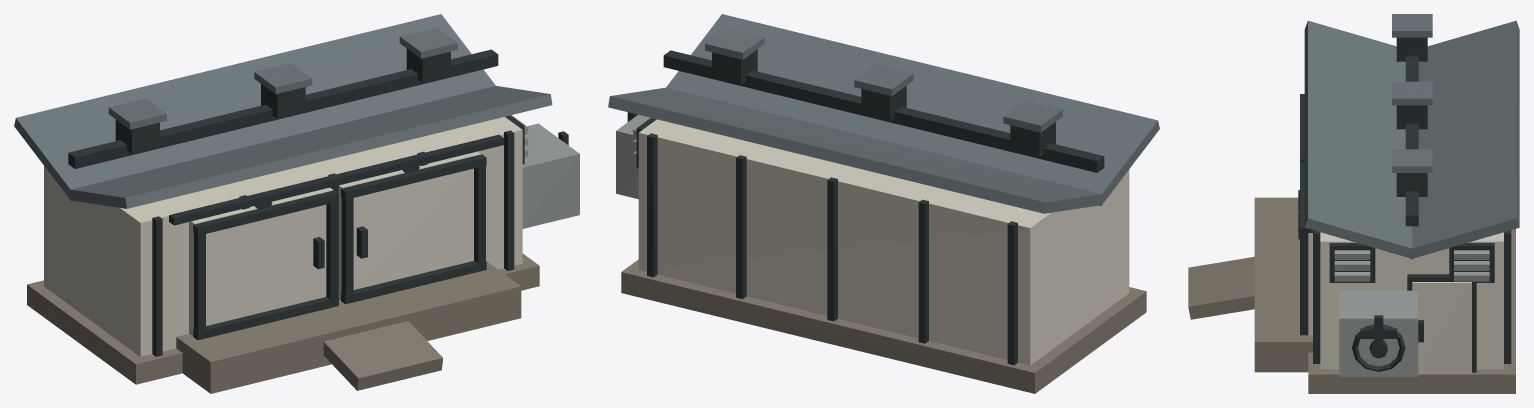
File: refrigerated-warehouse.source.glb
3 renders of one model, left to right at view 1: azimuth 30°, elevation 25°; view 2: azimuth 150°, elevation 25°; view 3: azimuth 270°, elevation 25°, orthographic. The views are drawn at different scales.
Parts seen in each view (by area): view 1: refrigerated-warehouse-insulated-warehouse-shell-mesh, refrigerated-warehouse-shallow-roof--0.43-mesh, refrigerated-warehouse-front-loading-dock-mesh, refrigerated-warehouse-shallow-roof-0.43-mesh, refrigerated-warehouse-left-door-panel-mesh, refrigerated-warehouse-right-door-panel-mesh, refrigerated-warehouse-roof-ridge-mesh, refrigerated-warehouse-low-stone-foundation-mesh, refrigerated-warehouse-short-dock-ramp-mesh, refrigerated-warehouse-condenser-casing-mesh, refrigerated-warehouse-loading-door-track-mesh, refrigerated-warehouse-left-top-seal-mesh (+15 smaller); view 2: refrigerated-warehouse-insulated-warehouse-shell-mesh, refrigerated-warehouse-shallow-roof-0.43-mesh, refrigerated-warehouse-shallow-roof--0.43-mesh, refrigerated-warehouse-low-stone-foundation-mesh, refrigerated-warehouse-roof-ridge-mesh, refrigerated-warehouse-condenser-casing-mesh, refrigerated-warehouse-rear-frame--1.62-mesh, refrigerated-warehouse-rear-frame-1.62-mesh, refrigerated-warehouse-rear-frame--0.82-mesh, refrigerated-warehouse-rear-frame-0.82-mesh, refrigerated-warehouse-rear-frame-0-mesh, refrigerated-warehouse-roof-vent-cap-0-mesh (+5 smaller); view 3: refrigerated-warehouse-shallow-roof-0.43-mesh, refrigerated-warehouse-shallow-roof--0.43-mesh, refrigerated-warehouse-front-loading-dock-mesh, refrigerated-warehouse-insulated-warehouse-shell-mesh, refrigerated-warehouse-condenser-casing-mesh, refrigerated-warehouse-low-stone-foundation-mesh, refrigerated-warehouse-service-door-panel-mesh, refrigerated-warehouse-short-dock-ramp-mesh, refrigerated-warehouse-roof-ridge-mesh, refrigerated-warehouse-rear-frame-1.62-mesh, refrigerated-warehouse-front-frame-1.62-mesh, refrigerated-warehouse-roof-vent-cap-0-mesh (+20 smaller).
Part boxes in pixels (x1,y1,x2,y2): refrigerated-warehouse-insulated-warehouse-shell-mesh: (44,117,522,356); refrigerated-warehouse-shallow-roof--0.43-mesh: (14,14,495,201); refrigerated-warehouse-front-loading-dock-mesh: (176,261,521,393); refrigerated-warehouse-shallow-roof-0.43-mesh: (68,86,552,208); refrigerated-warehouse-left-door-panel-mesh: (189,187,333,335); refrigerated-warehouse-right-door-panel-mesh: (338,151,480,300); refrigerated-warehouse-roof-ridge-mesh: (68,49,498,168); refrigerated-warehouse-low-stone-foundation-mesh: (27,253,539,384); refrigerated-warehouse-short-dock-ramp-mesh: (323,321,442,390); refrigerated-warehouse-condenser-casing-mesh: (522,123,579,228); refrigerated-warehouse-loading-door-track-mesh: (169,134,503,225); refrigerated-warehouse-left-top-seal-mesh: (193,190,338,235); refrigerated-warehouse-insulated-warehouse-shell-mesh: (638,119,1129,365); refrigerated-warehouse-shallow-roof-0.43-mesh: (666,14,1159,205); refrigerated-warehouse-shallow-roof--0.43-mesh: (608,87,1104,213); refrigerated-warehouse-low-stone-foundation-mesh: (621,259,1146,393); refrigerated-warehouse-roof-ridge-mesh: (663,50,1104,172); refrigerated-warehouse-condenser-casing-mesh: (616,114,649,199); refrigerated-warehouse-rear-frame--1.62-mesh: (1007,221,1017,365); refrigerated-warehouse-rear-frame-1.62-mesh: (647,133,657,277); refrigerated-warehouse-rear-frame--0.82-mesh: (918,199,928,343); refrigerated-warehouse-rear-frame-0.82-mesh: (736,155,746,298); refrigerated-warehouse-rear-frame-0-mesh: (827,177,837,321); refrigerated-warehouse-roof-vent-cap-0-mesh: (854,64,913,96); refrigerated-warehouse-shallow-roof-0.43-mesh: (1304,20,1416,259); refrigerated-warehouse-shallow-roof--0.43-mesh: (1407,20,1519,258); refrigerated-warehouse-front-loading-dock-mesh: (1254,197,1312,372); refrigerated-warehouse-insulated-warehouse-shell-mesh: (1320,232,1503,369); refrigerated-warehouse-condenser-casing-mesh: (1339,290,1418,376); refrigerated-warehouse-low-stone-foundation-mesh: (1308,229,1515,393); refrigerated-warehouse-service-door-panel-mesh: (1412,282,1471,373); refrigerated-warehouse-short-dock-ramp-mesh: (1188,256,1254,319); refrigerated-warehouse-roof-ridge-mesh: (1405,56,1418,226); refrigerated-warehouse-rear-frame-1.62-mesh: (1504,231,1511,363); refrigerated-warehouse-front-frame-1.62-mesh: (1313,231,1320,363); refrigerated-warehouse-roof-vent-cap-0-mesh: (1392,81,1432,105).
Bounding box in the file's own units: 4.42 × 1.94 × 2.78.
